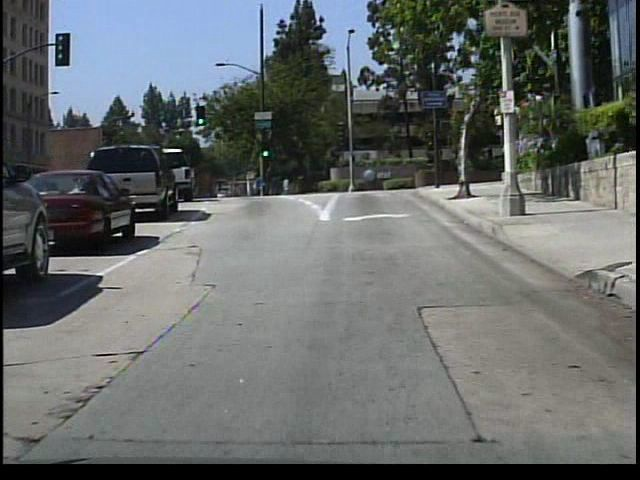person: (249, 168, 267, 199), (279, 172, 293, 198)
